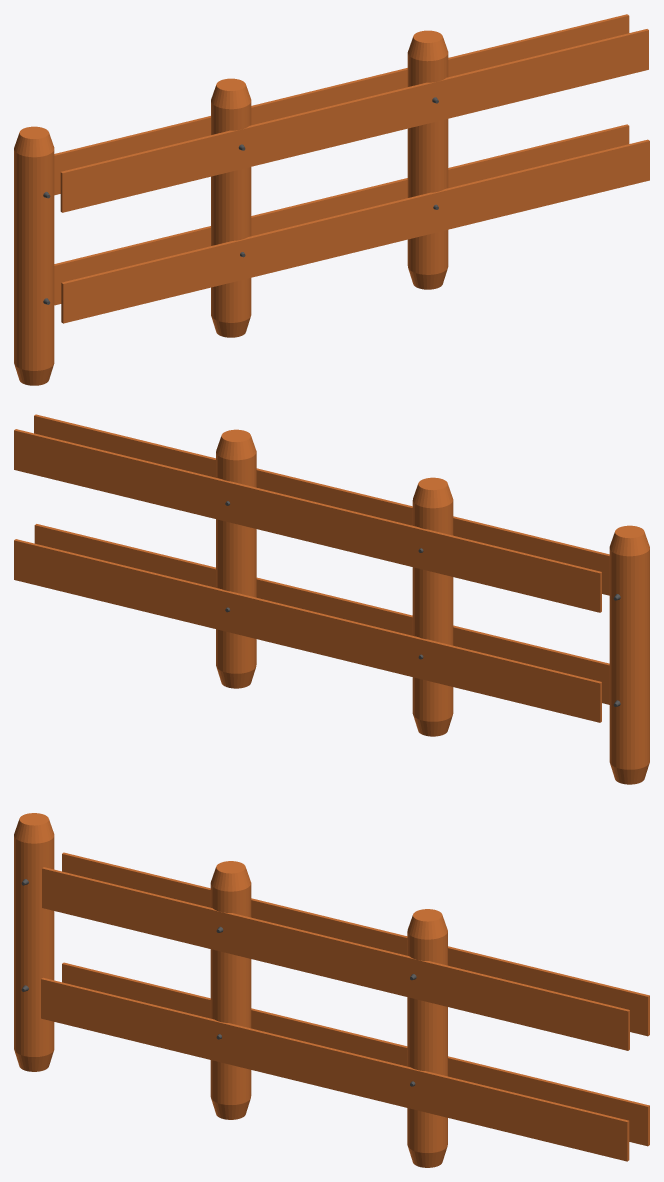
The model's file is fence.fbx.
The picture shows the model from 3 angles, top to bottom: view 1: azimuth 30°, elevation 25°; view 2: azimuth 150°, elevation 25°; view 3: azimuth 330°, elevation 25°; orthographic projection.
Visible parts, largest first — view 1: 平面.004, 平面.002, 平面.001, 円柱.002, 平面.003, 円柱.001, 円柱; view 2: 平面.003, 平面.001, 平面.004, 円柱.002, 平面.002, 円柱, 円柱.001; view 3: 平面.004, 平面.002, 平面.001, 平面.003, 円柱.002, 円柱, 円柱.001.
Part boxes in pixels (x1,y1,x2,y2): 平面.004: (61, 139, 649, 323); 平面.002: (60, 29, 648, 212); 平面.001: (54, 124, 629, 305); 円柱.002: (14, 126, 54, 385); 平面.003: (54, 14, 629, 195); 円柱.001: (407, 30, 448, 289); 円柱: (211, 78, 251, 337); 平面.003: (14, 429, 601, 612); 平面.001: (14, 539, 601, 722); 平面.004: (34, 524, 609, 704); 円柱.002: (609, 525, 649, 784); 平面.002: (34, 414, 609, 595); 円柱: (412, 477, 453, 736); 円柱.001: (216, 429, 256, 688); 平面.004: (41, 977, 629, 1161); 平面.002: (42, 867, 629, 1050); 平面.001: (62, 962, 649, 1146); 平面.003: (62, 852, 649, 1036); 円柱.002: (14, 813, 54, 1071); 円柱: (210, 861, 251, 1119); 円柱.001: (407, 909, 447, 1167).
Bounding box in the file's own units: 2125 × 805 × 152.
